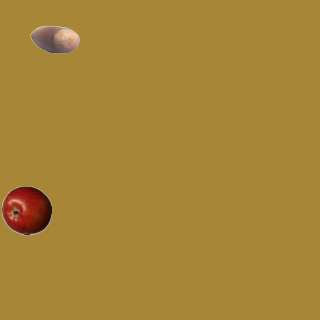Apple Braeburn: (1, 185, 51, 235)
Hazelnut: (29, 14, 79, 64)
